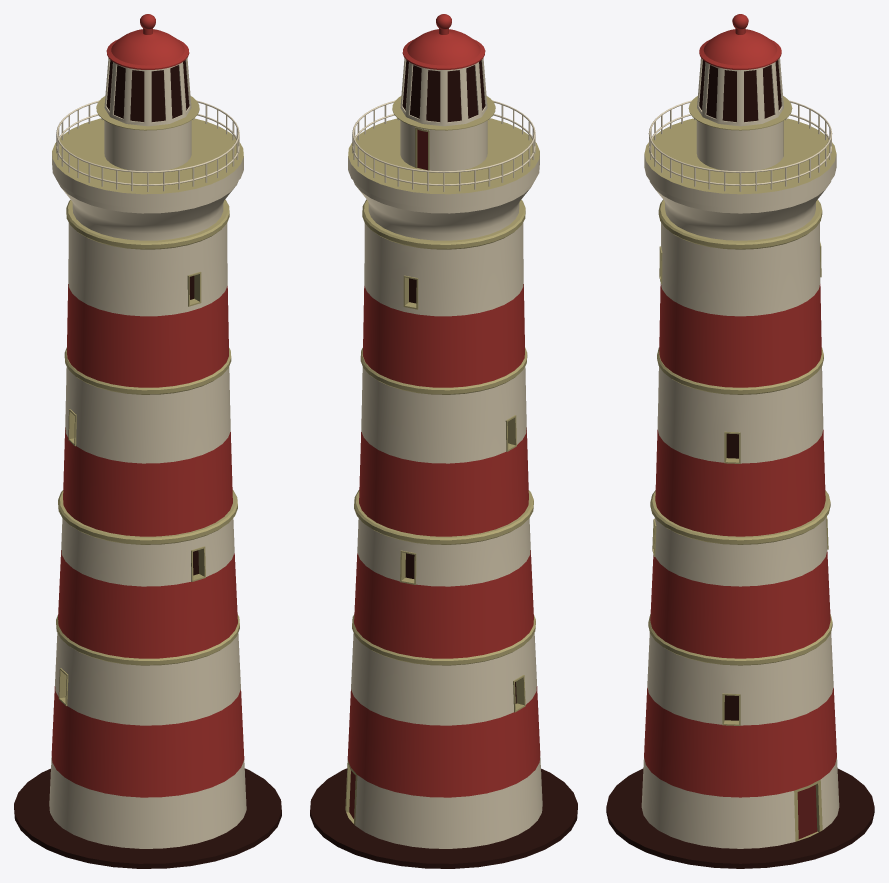
The model's file is Lighthouse1.fbx.
The picture shows the model from 3 angles, left to right: view 1: azimuth 30°, elevation 25°; view 2: azimuth 150°, elevation 25°; view 3: azimuth 270°, elevation 25°; orthographic projection.
Visible parts, largest first — view 1: Lighthouse; view 2: Lighthouse; view 3: Lighthouse.
Boxes of the visible parts, left/top/right/bottom form: Lighthouse: left=14, top=14, right=281, bottom=868; Lighthouse: left=310, top=14, right=577, bottom=868; Lighthouse: left=606, top=14, right=874, bottom=868.
Size of the model in its own units: 271 by 890 by 271.
